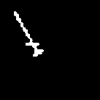double_crochet: (14, 12, 43, 55)
